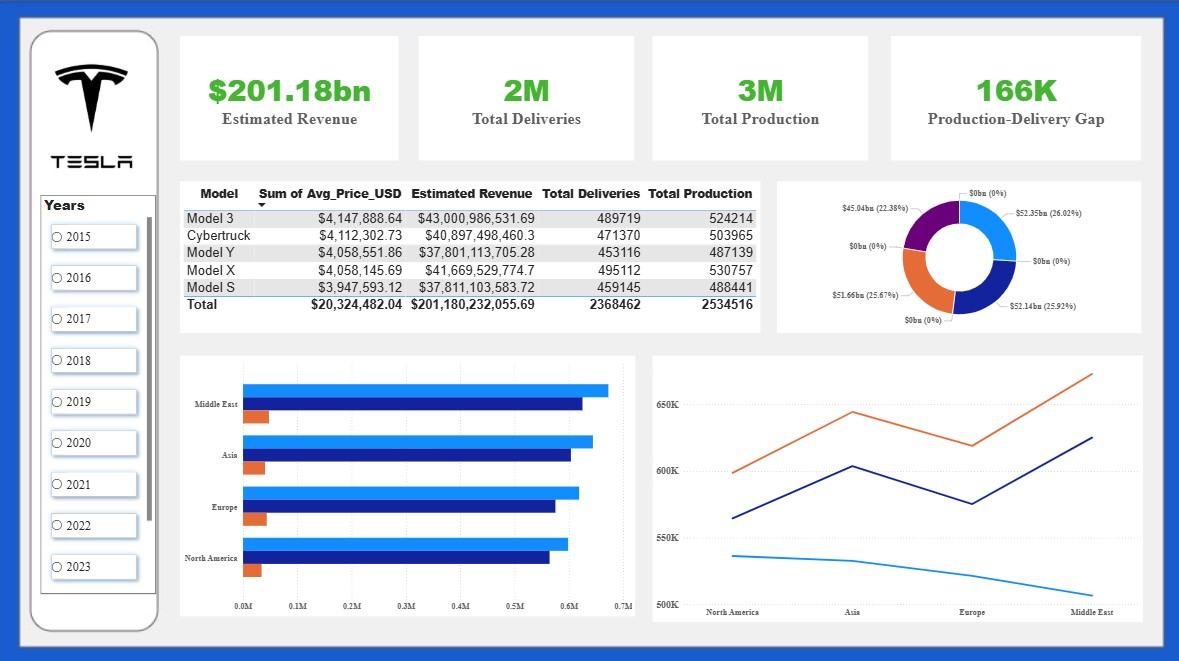

The dashboard page shown, as its layout file describes it:
{"tool":"powerbi","page":{"name":"Tesla Business Performance Dashboard (2015–2025)","canvas":[1920,1080],"ordinal":0},"visuals":[{"type":"image","box":[53.9,79.7,206.3,213.3],"z":0},{"type":"card","fields":{"Values":["tesla_deliveries_data.Total Deliveries"]},"box":[683.2,58.4,350.1,201.8],"z":1000},{"type":"card","fields":{"Values":["tesla_deliveries_data.Total Production"]},"box":[1065,58.4,350.1,201.8],"z":2000},{"type":"card","fields":{"Values":["tesla_deliveries_data.Estimated Revenue"]},"box":[296.6,58.4,355,201.8],"z":3000},{"type":"card","fields":{"Values":["tesla_deliveries_data.Production-Delivery Gap"]},"box":[1451.6,58.4,406.1,201.8],"z":4000},{"type":"listSlicer","title":"Years","fields":{"Values":["tesla_deliveries_data.Year"]},"box":[63.2,325.3,189.5,647.4],"z":5000},{"type":"stackedAreaChart","fields":{"Category":["tesla_deliveries_data.Region"],"Y":["tesla_deliveries_data.Average Delivery Price"]},"box":[1266,294.6,591.6,245.9],"z":6000},{"type":"lineChart","title":"Deliveries vs Production Trend by Region","fields":{"Category":["tesla_deliveries_data.Region"],"Y":["Sum(tesla_deliveries_data.Charging_Stations)","tesla_deliveries_data.Total Deliveries","tesla_deliveries_data.Total Production"]},"box":[1064.2,577.9,795.8,432.6],"z":7000},{"type":"tableEx","fields":{"Values":["tesla_deliveries_data.Model","Sum(tesla_deliveries_data.Avg_Price_USD)","tesla_deliveries_data.Estimated Revenue","tesla_deliveries_data.Total Deliveries","tesla_deliveries_data.Total Production"]},"box":[297,294.6,942.2,245.9],"z":8000},{"type":"clusteredBarChart","fields":{"Category":["tesla_deliveries_data.Region"],"Y":["tesla_deliveries_data.Total Production","tesla_deliveries_data.Total Deliveries","tesla_deliveries_data.Production-Delivery Gap"]},"box":[296.8,577.9,739,423.2],"z":9000}]}

Visuals, with their boxes in screenshot pixels (x1, y1, x2, y2), scaled from the page's 1920x1080 canvas onto the 1179x661 screenshot:
image: select_region(33, 49, 160, 179)
card - tesla_deliveries_data.Total Deliveries: select_region(420, 36, 635, 159)
card - tesla_deliveries_data.Total Production: select_region(654, 36, 869, 159)
card - tesla_deliveries_data.Estimated Revenue: select_region(182, 36, 400, 159)
card - tesla_deliveries_data.Production-Delivery Gap: select_region(891, 36, 1141, 159)
"Years" listSlicer: select_region(39, 199, 155, 595)
stackedAreaChart - tesla_deliveries_data.Region x tesla_deliveries_data.Average Delivery Price: select_region(777, 180, 1141, 331)
"Deliveries vs Production Trend by Region" lineChart: select_region(653, 354, 1142, 618)
tableEx - tesla_deliveries_data.Model x Sum(tesla_deliveries_data.Avg_Price_USD): select_region(182, 180, 761, 331)
clusteredBarChart - tesla_deliveries_data.Region x tesla_deliveries_data.Total Production: select_region(182, 354, 636, 613)
